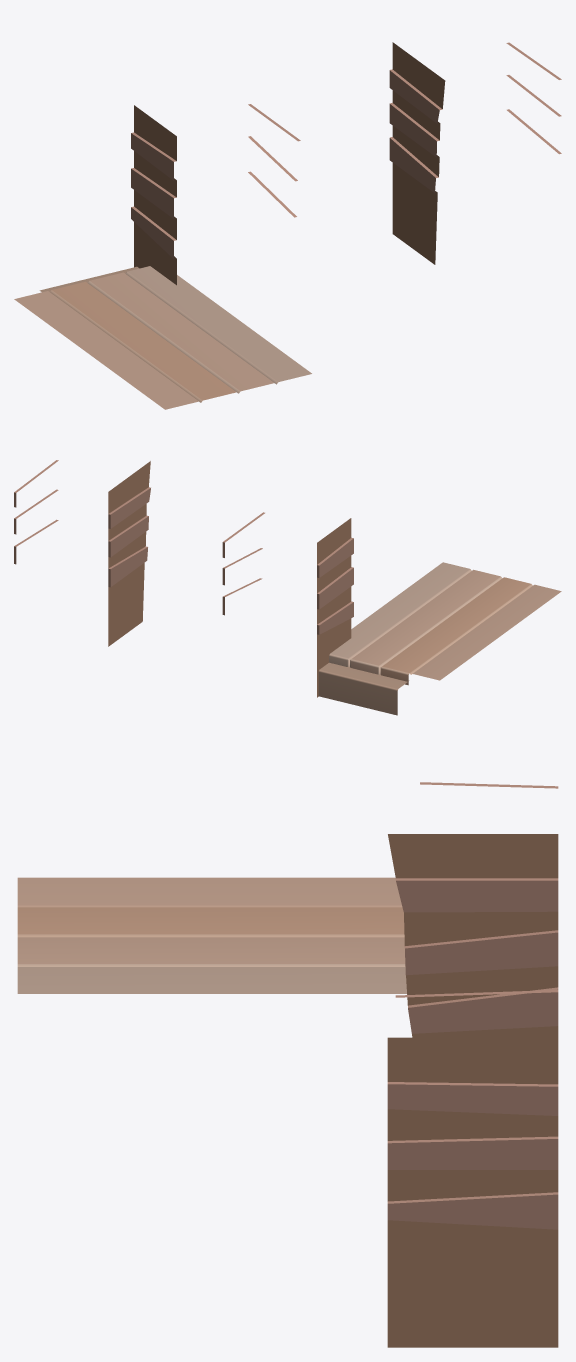
File: CrateCoWood.glb
3 views of the same model, one above another, from view 1: azimuth 30°, elevation 25°; view 2: azimuth 150°, elevation 25°; view 3: azimuth 270°, elevation 25° (orthographic). The views are drawn at different scales.
Visible parts, largest first — view 1: CrateCoWood; view 2: CrateCoWood; view 3: CrateCoWood.
Boxes of the visible parts, x1,y1,x2,y2 form: CrateCoWood: (14,42,561,409); CrateCoWood: (14,460,561,715); CrateCoWood: (17,782,558,1347).
Bounding box in the file's own units: 5.59 × 2.01 × 3.17.
